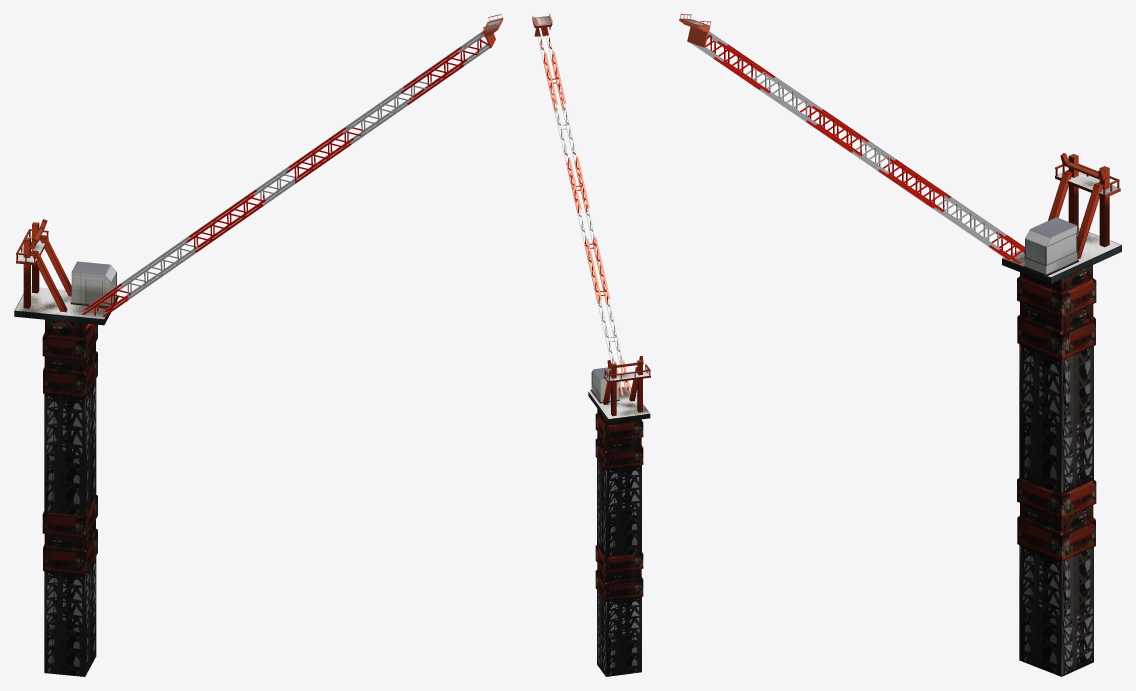
File: kure-n4.obj
3 views of the same model, side by side, from view 1: azimuth 30°, elevation 25°; view 2: azimuth 150°, elevation 25°; view 3: azimuth 270°, elevation 25° (orthographic). The views are drawn at different scales.
Size of the model in its own units: 48.62 by 100 by 50.74.
3 materials, 3 textured.
